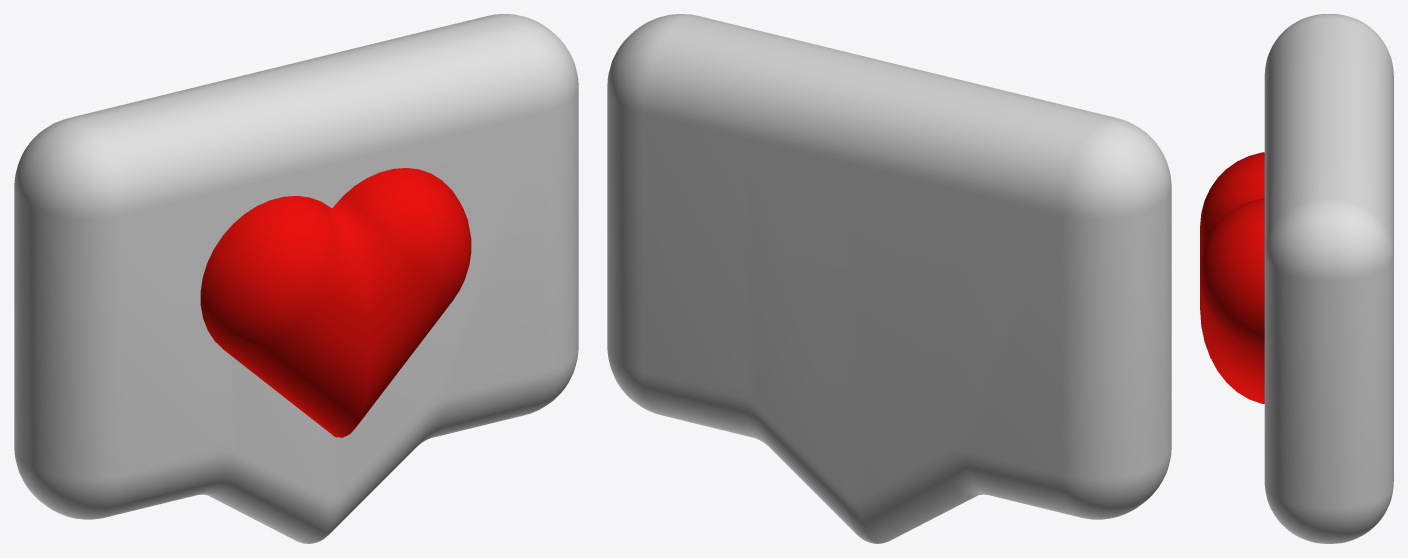
File: Mail-transformed.glb
3 renders of one model, left to right at view 1: azimuth 30°, elevation 25°; view 2: azimuth 150°, elevation 25°; view 3: azimuth 270°, elevation 25°, orthographic. The views are drawn at different scales.
Parts seen in each view (by area): view 1: Object_6, Object_4; view 2: Object_6; view 3: Object_6, Object_4.
Boxes of the visible parts, x1,y1,x2,y2 form: Object_6: (14, 14, 578, 543); Object_4: (200, 168, 471, 437); Object_6: (607, 14, 1171, 543); Object_6: (1264, 14, 1393, 543); Object_4: (1200, 152, 1264, 403).
Bounding box in the file's own units: 0.5064 × 0.4146 × 0.1792.
